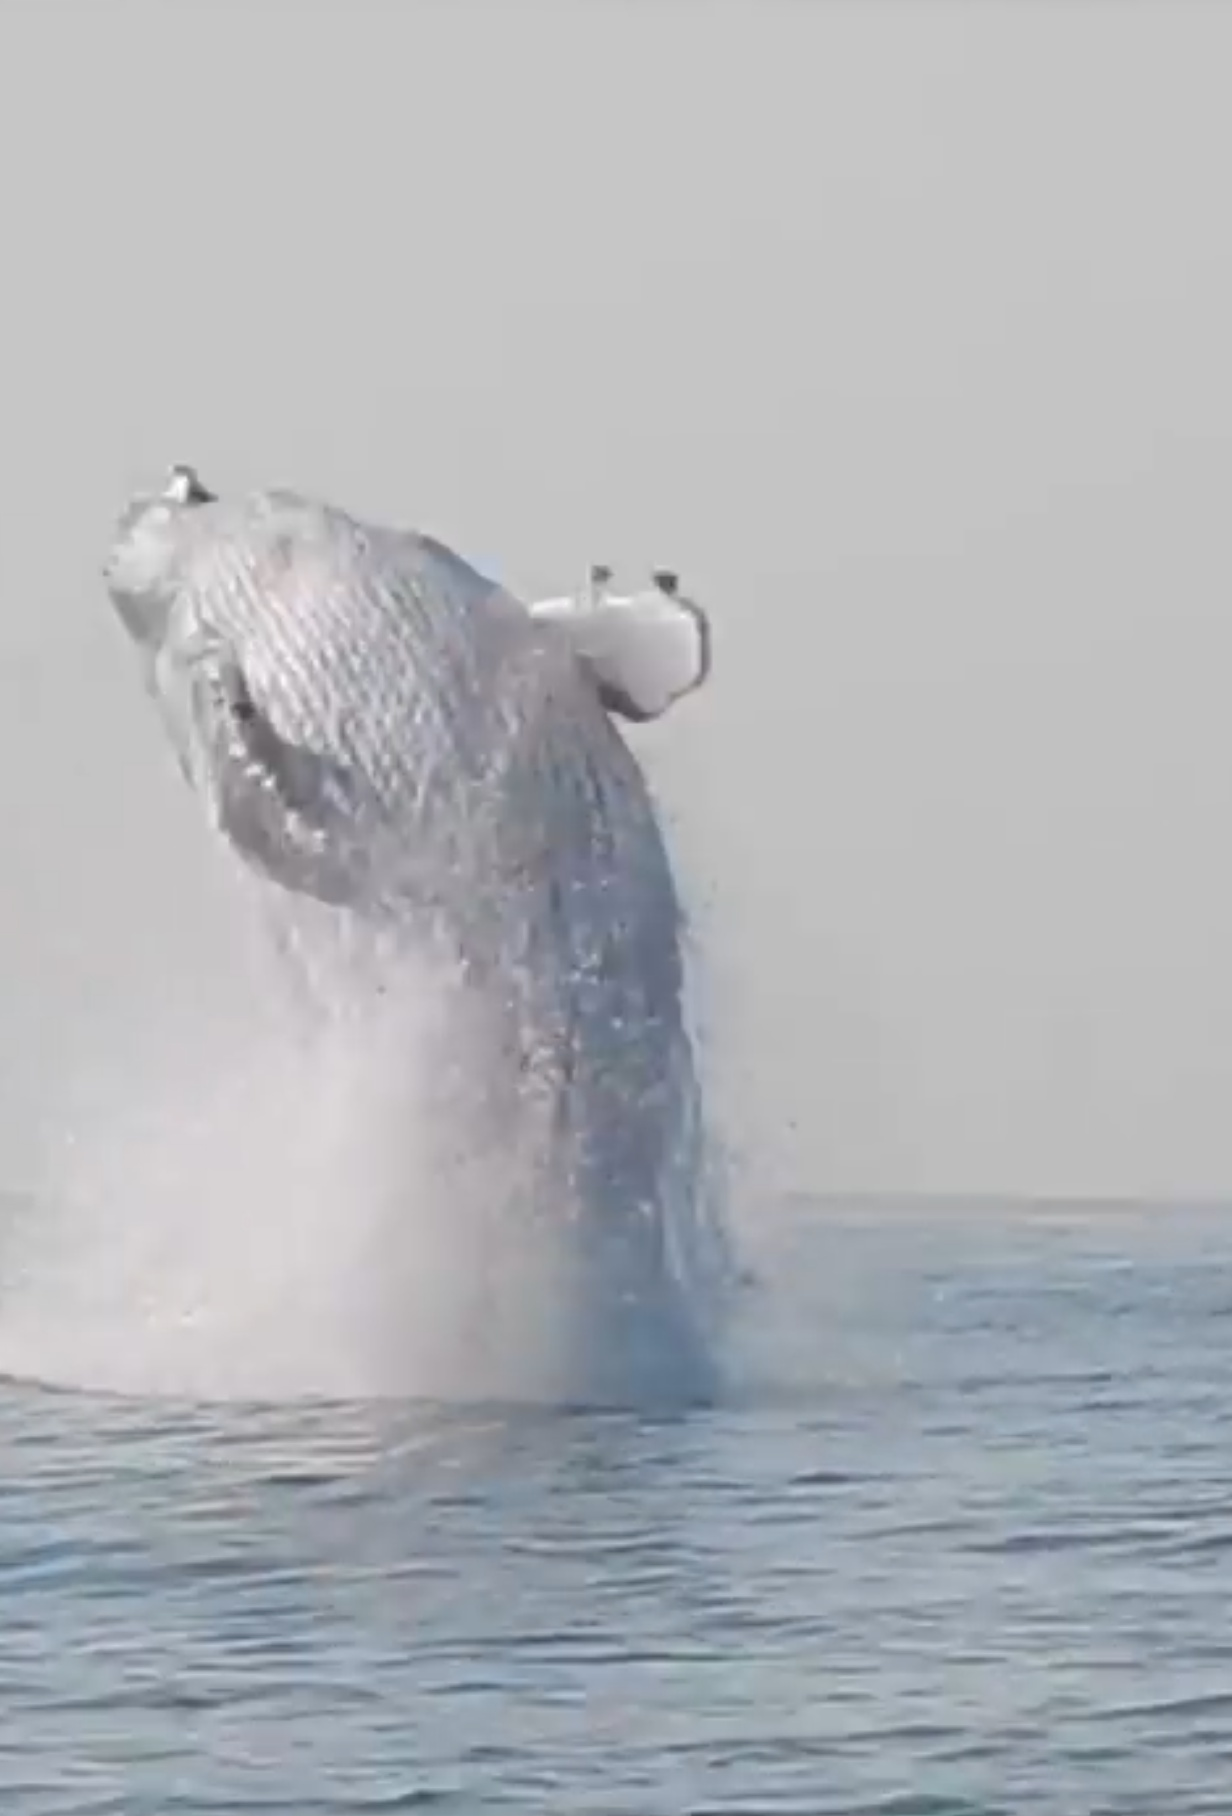humpback: (87, 473, 729, 1394)
